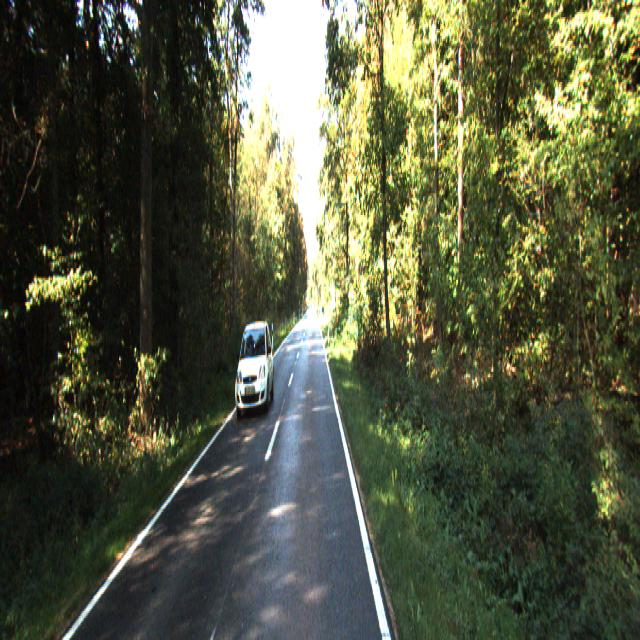Car: (233, 320, 275, 418)
